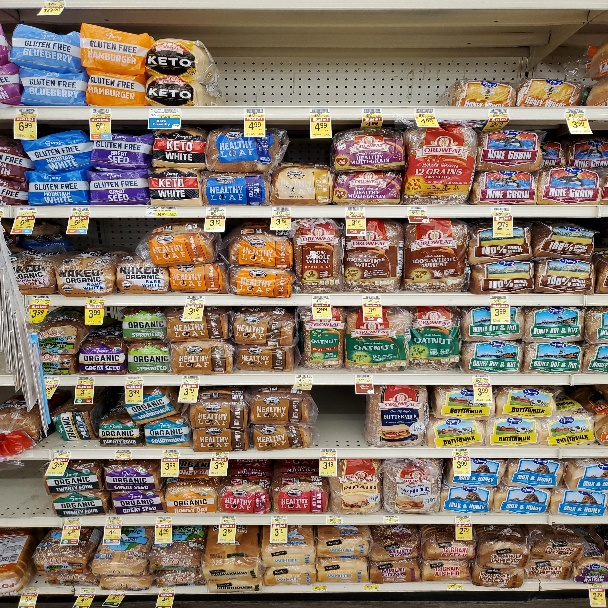All PRICE TAGS: (149, 108, 181, 118), (147, 207, 176, 216), (244, 107, 265, 117), (565, 108, 586, 118), (16, 206, 36, 216), (15, 108, 37, 117), (90, 108, 112, 117), (309, 107, 330, 116), (362, 108, 383, 117), (489, 108, 509, 117), (70, 207, 90, 216), (206, 206, 226, 215), (345, 207, 365, 216), (86, 296, 107, 304), (414, 108, 435, 116), (406, 207, 427, 215), (354, 374, 372, 383), (295, 374, 313, 383), (181, 375, 199, 384), (271, 207, 291, 215), (491, 207, 511, 215), (320, 448, 337, 457), (473, 375, 490, 384), (454, 515, 473, 523), (53, 449, 72, 457), (76, 376, 95, 384), (186, 295, 205, 303), (44, 0, 65, 7), (162, 449, 180, 457), (490, 296, 508, 304), (362, 295, 380, 303), (312, 295, 330, 303), (33, 296, 51, 304), (382, 515, 399, 523), (155, 516, 172, 524), (106, 516, 123, 524), (115, 449, 132, 457), (126, 376, 143, 384), (78, 587, 97, 594), (271, 516, 287, 524), (220, 516, 236, 524), (453, 448, 469, 456), (64, 517, 82, 524), (363, 583, 378, 591), (45, 376, 60, 384), (212, 451, 229, 458), (326, 516, 342, 523), (587, 583, 603, 589), (447, 584, 462, 590), (312, 585, 327, 591), (161, 587, 175, 593), (26, 587, 39, 593), (111, 589, 125, 594)
